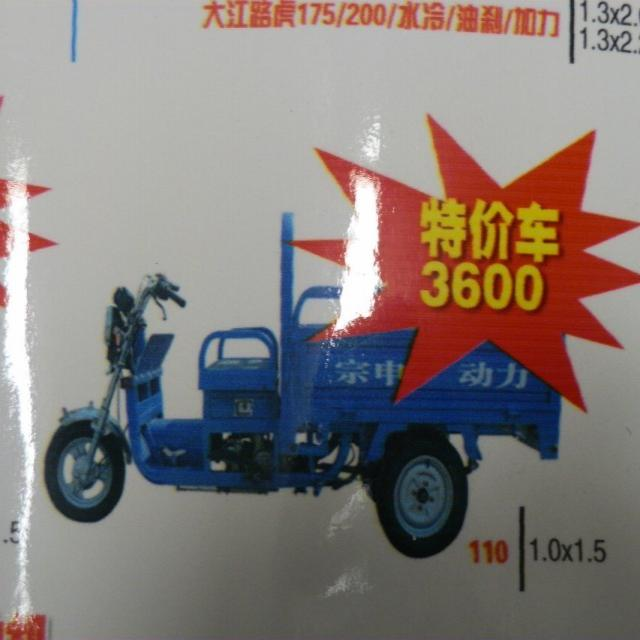tricycle: (36, 205, 564, 557)
